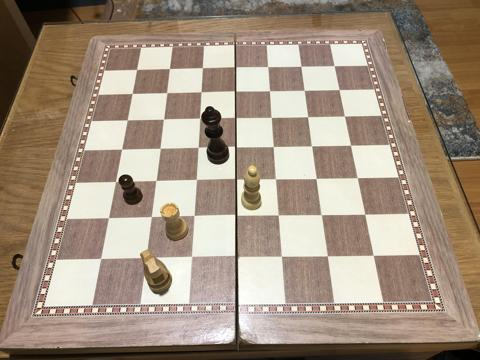xcorner: (298, 85, 310, 98), (338, 111, 351, 123), (266, 112, 278, 125), (229, 113, 242, 125), (193, 114, 206, 126), (122, 115, 134, 128), (344, 140, 357, 152), (268, 141, 280, 154), (229, 142, 242, 154), (351, 172, 363, 185), (230, 174, 242, 187), (189, 175, 202, 187), (315, 209, 327, 222), (321, 250, 333, 263), (230, 251, 242, 264), (184, 252, 197, 264), (140, 252, 152, 265), (328, 61, 340, 73), (295, 62, 307, 74), (262, 63, 274, 75), (229, 63, 241, 75), (197, 64, 209, 76), (164, 65, 176, 77), (132, 66, 144, 78), (333, 85, 345, 97), (264, 86, 276, 98), (229, 87, 241, 99), (195, 88, 207, 100), (161, 89, 173, 101), (127, 89, 139, 101), (302, 112, 314, 124), (158, 115, 170, 127), (306, 141, 318, 153), (192, 143, 204, 155), (154, 144, 166, 156), (116, 144, 128, 156), (310, 173, 322, 185), (270, 174, 282, 186), (150, 176, 162, 188), (110, 176, 122, 188), (359, 209, 371, 221), (272, 210, 284, 222), (230, 211, 242, 223), (187, 211, 199, 223), (145, 212, 157, 224), (103, 212, 115, 224), (367, 250, 379, 262), (275, 251, 287, 263), (95, 253, 107, 265)
